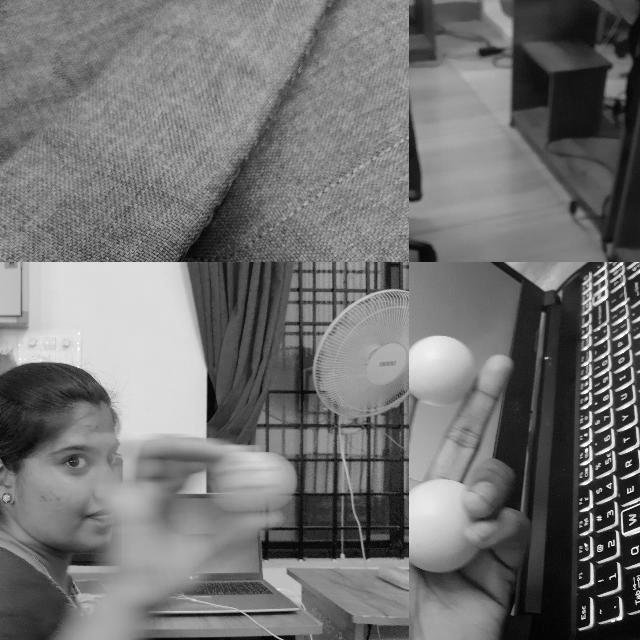ping-pong-ball: (409, 479, 476, 573), (210, 453, 298, 509), (409, 337, 475, 404)
